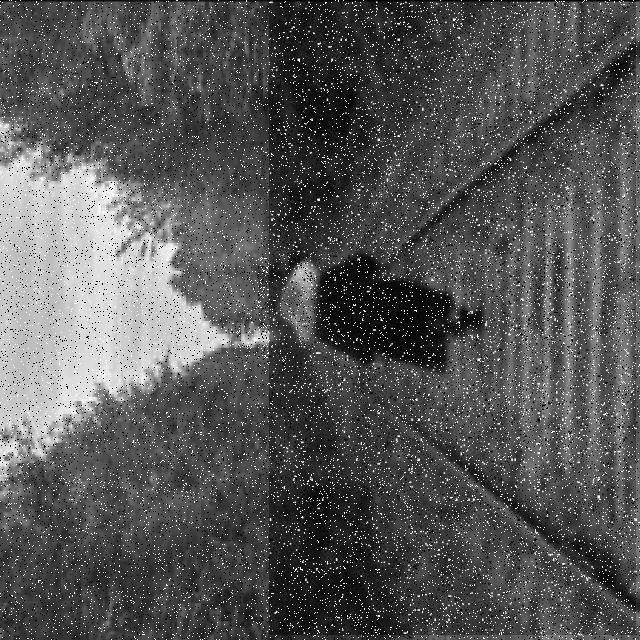rail: (271, 1, 637, 636)
